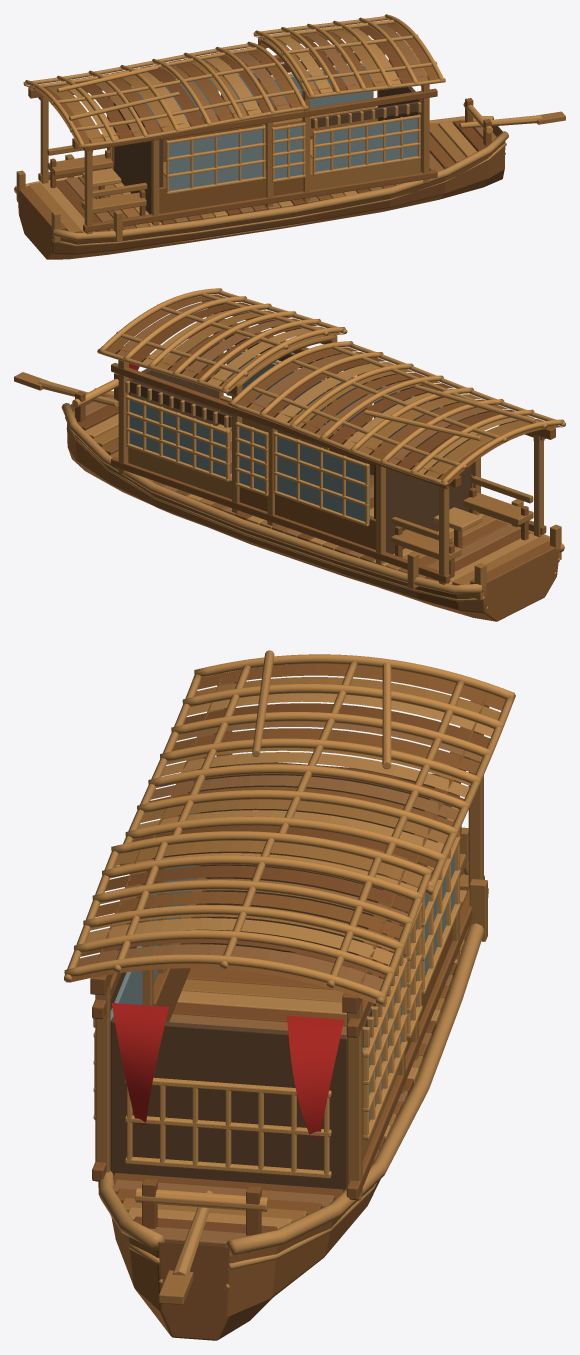
Rendered from redboat.glb.
3 views of the same model, one above another, from view 1: azimuth 30°, elevation 25°; view 2: azimuth 150°, elevation 25°; view 3: azimuth 270°, elevation 25° (orthographic). The views are drawn at different scales.
Visible parts, largest first — view 1: 木船 • 舱架及后舱座椅, 木船 • 格栅门窗, 木船 • 拱形分片木篷顶, 木船 • 弧形篷顶压条, 木船 • 曲面船壳, 木船 • 逐块甲板, 木船 • 舷边与船壳板缝, 木船 • 船桨系柱与竹竿, 木船 • 篷顶承托梁与补齐支柱; view 2: 木船 • 舱架及后舱座椅, 木船 • 拱形分片木篷顶, 木船 • 弧形篷顶压条, 木船 • 格栅门窗, 木船 • 曲面船壳, 木船 • 逐块甲板, 木船 • 舷边与船壳板缝, 木船 • 船桨系柱与竹竿, 木船 • 篷顶承托梁与补齐支柱; view 3: 木船 • 拱形分片木篷顶, 木船 • 弧形篷顶压条, 木船 • 格栅门窗, 木船 • 舱架及后舱座椅, 木船 • 逐块甲板, 木船 • 曲面船壳, 木船 • 舷边与船壳板缝, 木船 • 朱红布帘, 木船 • 船桨系柱与竹竿, 木船 • 篷顶承托梁与补齐支柱.
Boxes of the visible parts, box(x1,y1,x2,y2) form: 木船 • 舱架及后舱座椅: box(38, 43, 437, 234); 木船 • 格栅门窗: box(131, 52, 421, 194); 木船 • 拱形分片木篷顶: box(26, 23, 438, 145); 木船 • 弧形篷顶压条: box(23, 14, 445, 148); 木船 • 曲面船壳: box(17, 126, 505, 259); 木船 • 逐块甲板: box(19, 120, 496, 232); 木船 • 舷边与船壳板缝: box(14, 116, 508, 250); 木船 • 船桨系柱与竹竿: box(16, 65, 565, 242); 木船 • 篷顶承托梁与补齐支柱: box(28, 24, 436, 153); 木船 • 舱架及后舱座椅: box(111, 314, 546, 584); 木船 • 拱形分片木篷顶: box(106, 294, 562, 484); 木船 • 弧形篷顶压条: box(97, 288, 565, 486); 木船 • 格栅门窗: box(125, 333, 444, 526); 木船 • 曲面船壳: box(67, 401, 559, 621); 木船 • 逐块甲板: box(73, 396, 555, 585); 木船 • 舷边与船壳板缝: box(61, 388, 564, 609); 木船 • 船桨系柱与竹竿: box(14, 372, 561, 600); 木船 • 篷顶承托梁与补齐支柱: box(111, 300, 555, 491); 木船 • 拱形分片木篷顶: box(69, 663, 505, 1004); 木船 • 弧形篷顶压条: box(64, 654, 515, 1004); 木船 • 格栅门窗: box(93, 806, 460, 1190); 木船 • 舱架及后舱座椅: box(92, 731, 484, 1200); 木船 • 逐块甲板: box(113, 871, 469, 1252); 木船 • 曲面船壳: box(111, 1179, 380, 1340); 木船 • 舷边与船壳板缝: box(98, 861, 488, 1289); 木船 • 朱红布帘: box(111, 1003, 344, 1137); 木船 • 船桨系柱与竹竿: box(135, 650, 487, 1304); 木船 • 篷顶承托梁与补齐支柱: box(90, 675, 489, 1035).
Size of the model in its own units: 8.18 by 2.52 by 3.25.
